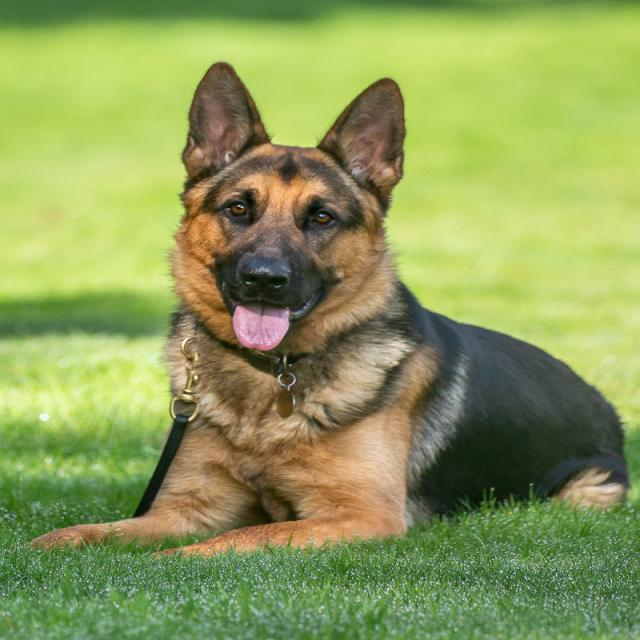GERMAN_SHEPHERD: (29, 61, 640, 575)
